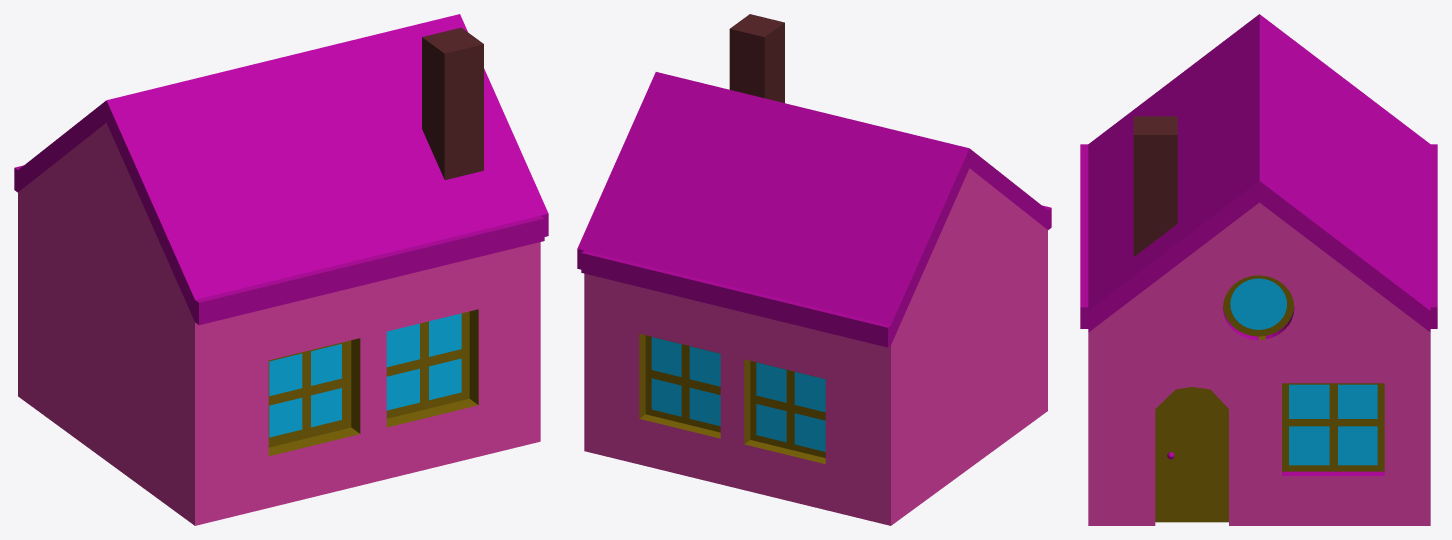
File: Pink 2 House 7.fbx
3 renders of one model, left to right at view 1: azimuth 30°, elevation 25°; view 2: azimuth 150°, elevation 25°; view 3: azimuth 270°, elevation 25°, orthographic. The views are drawn at different scales.
Visible parts, largest first — view 1: Cube, Cube.002; view 2: Cube, Cube.002; view 3: Cube, Cube.002.
Part boxes in pixels (<box>): Cube: <box>14,14,548,525</box>; Cube.002: <box>422,27,483,179</box>; Cube: <box>577,72,1051,525</box>; Cube.002: <box>729,14,784,102</box>; Cube: <box>1080,14,1437,525</box>; Cube.002: <box>1133,116,1177,256</box>.
Bounding box in the file's own units: 258 × 271 × 234.
